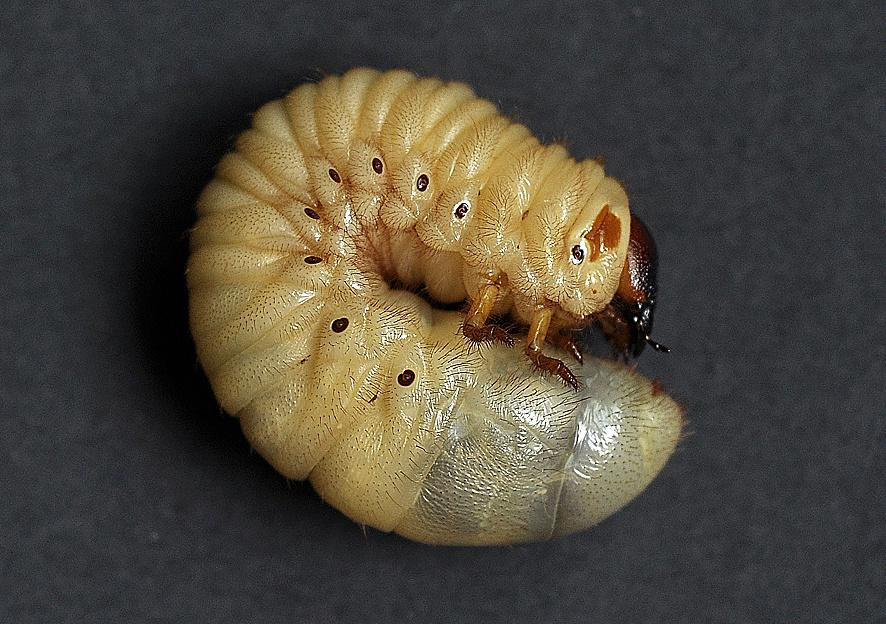grub: (182, 67, 691, 557)
